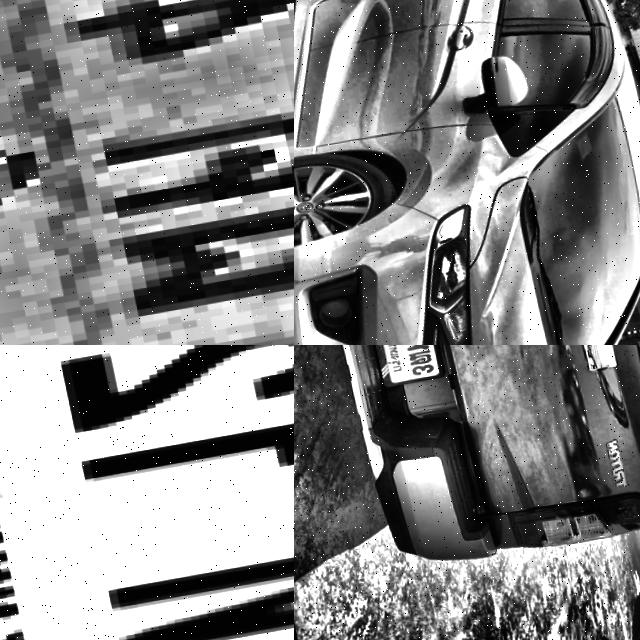license-plate: (0, 0, 294, 345), (0, 345, 294, 640), (359, 345, 445, 389)
